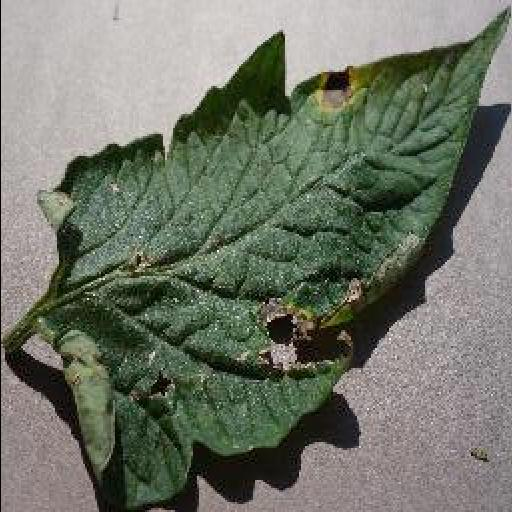disease_tomato: (36, 4, 508, 510)
